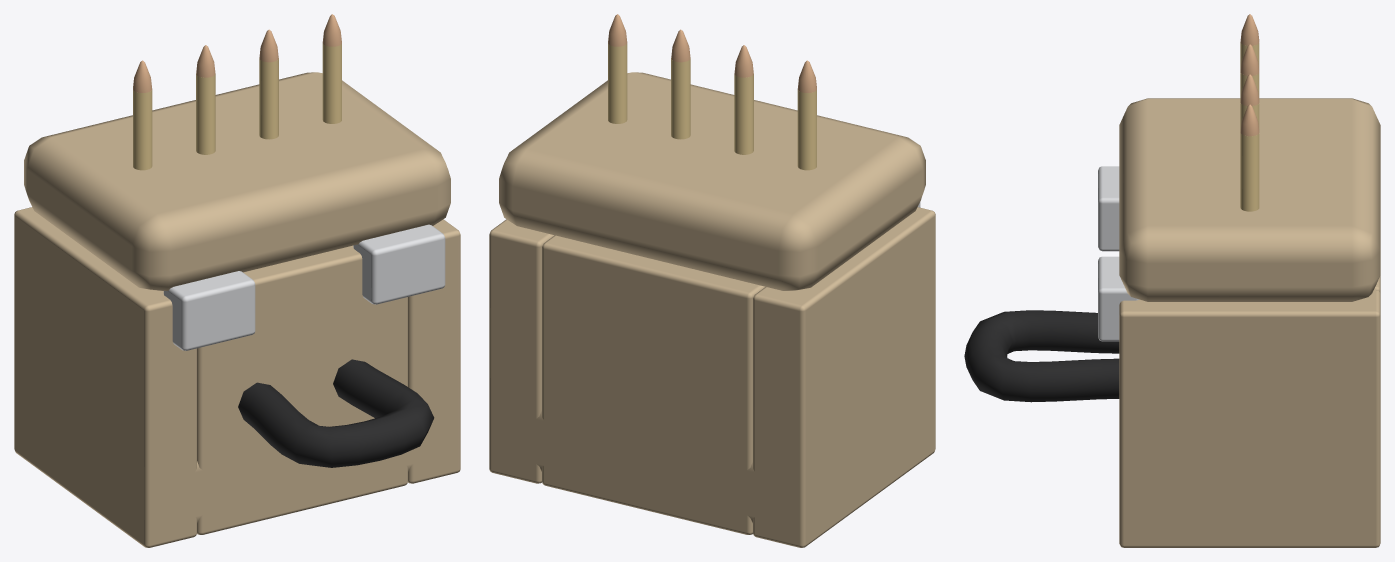
File: fps-weapon-set-and-firing-range-intermediate-ammo-box-14840d01__19483.glb
The picture shows the model from 3 angles, left to right: view 1: azimuth 30°, elevation 25°; view 2: azimuth 150°, elevation 25°; view 3: azimuth 270°, elevation 25°; orthographic projection. The views are drawn at different scales.
Parts seen in each view (by area): view 1: intermediate-ammo-box, lid; view 2: intermediate-ammo-box, lid; view 3: intermediate-ammo-box, lid.
Part boxes in pixels (left/top/right/bottom): intermediate-ammo-box: left=14, top=14, right=460, bottom=547; lid: left=24, top=72, right=450, bottom=290; intermediate-ammo-box: left=489, top=14, right=935, bottom=547; lid: left=499, top=72, right=925, bottom=290; intermediate-ammo-box: left=964, top=14, right=1380, bottom=547; lid: left=1119, top=98, right=1380, bottom=301.
Bounding box in the file's own units: 0.15 × 0.193 × 0.1753.
